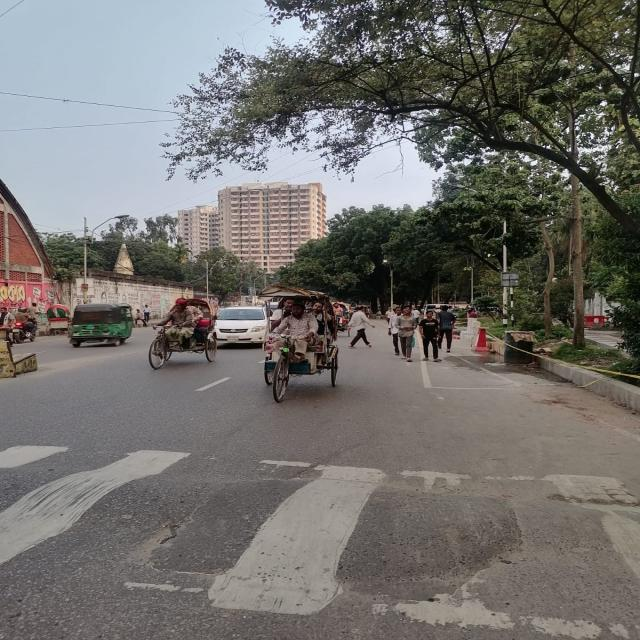person: (349, 306, 374, 348)
